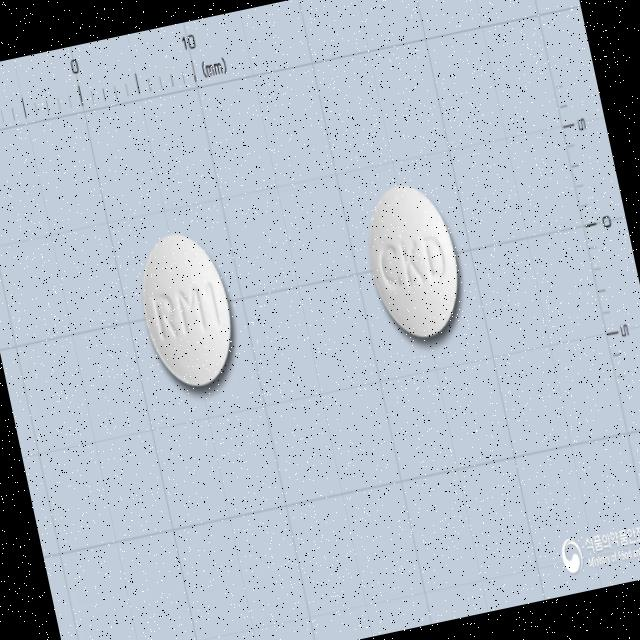Rheumide Tab: (354, 174, 472, 346), (129, 225, 245, 394)
